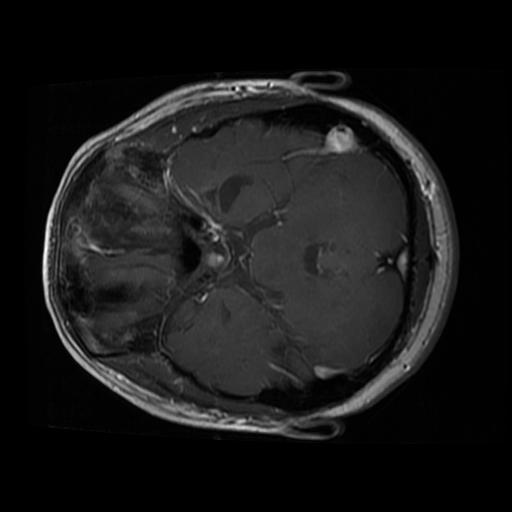glioma: (202, 170, 256, 216)
